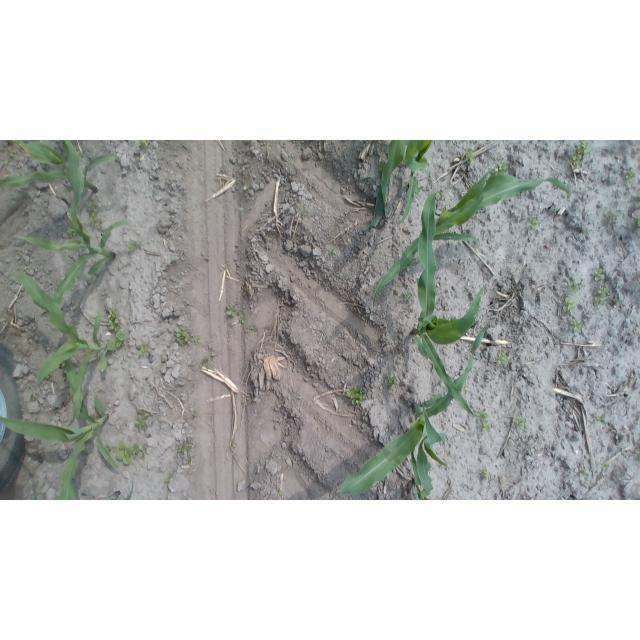Maize: (326, 323, 492, 500), (372, 164, 574, 308), (16, 140, 134, 317), (1, 354, 140, 500), (7, 263, 121, 430), (412, 190, 488, 421), (1, 141, 123, 200), (368, 140, 438, 228), (403, 434, 439, 500)
Weeds: (104, 442, 148, 467), (177, 438, 200, 467), (569, 141, 591, 170), (173, 327, 204, 347), (86, 198, 105, 230), (348, 383, 369, 407), (475, 407, 494, 433), (593, 284, 610, 311), (106, 333, 127, 352), (561, 295, 580, 315), (511, 410, 528, 432), (198, 351, 218, 369), (135, 409, 151, 431), (107, 308, 121, 332), (604, 210, 624, 225), (494, 351, 514, 366), (491, 161, 511, 175), (137, 340, 152, 357), (126, 238, 143, 253), (385, 371, 398, 390), (65, 223, 80, 239), (527, 214, 542, 230), (565, 281, 581, 296), (462, 148, 476, 165), (570, 319, 585, 334), (224, 301, 238, 317), (479, 467, 491, 484), (593, 268, 606, 282), (400, 290, 415, 302), (135, 140, 154, 149), (406, 261, 418, 273), (627, 168, 638, 181), (579, 467, 590, 479), (633, 191, 640, 208), (190, 409, 199, 422), (165, 472, 174, 484), (0, 157, 10, 167), (247, 324, 259, 332), (243, 182, 252, 192), (579, 223, 588, 233), (230, 442, 241, 450), (632, 448, 640, 458), (601, 462, 609, 472), (239, 316, 247, 325), (159, 493, 169, 500), (327, 248, 337, 255), (635, 215, 640, 228), (276, 491, 284, 498), (9, 151, 16, 158), (616, 298, 621, 307), (1, 145, 8, 151)
